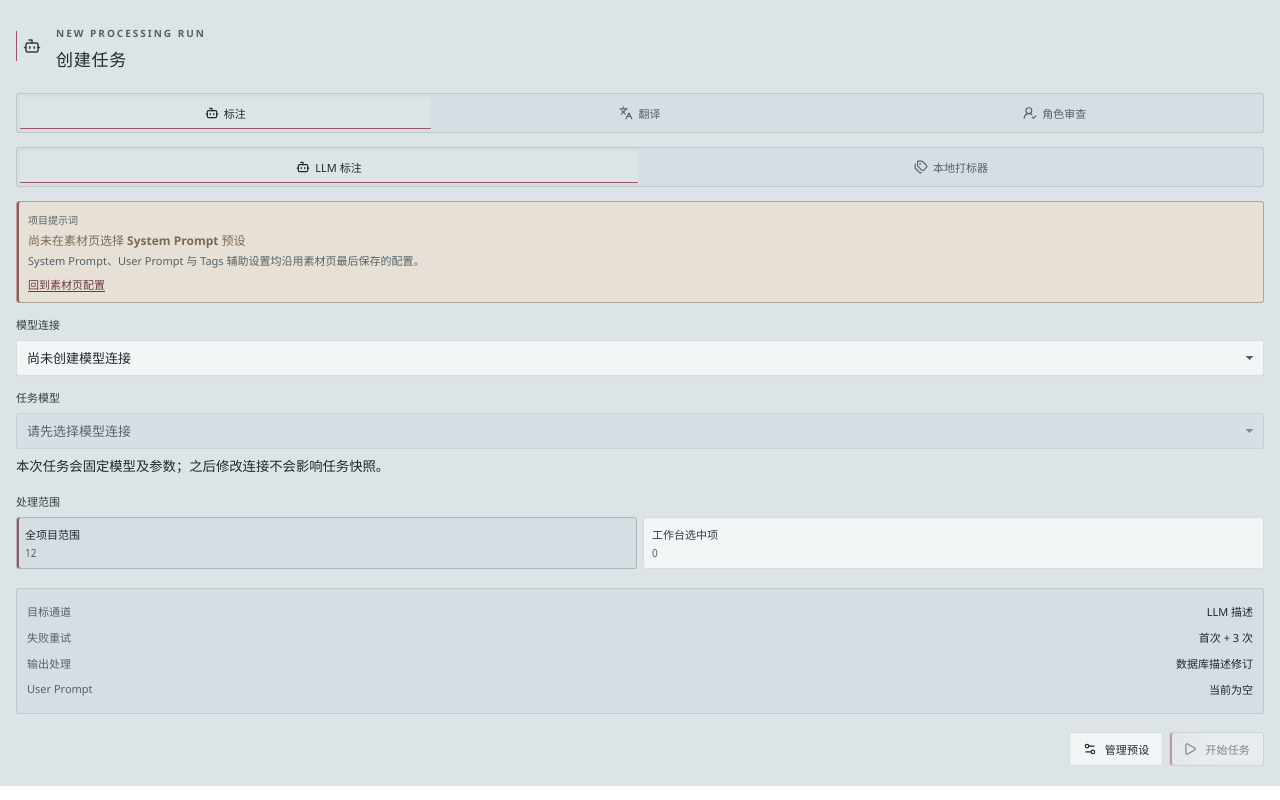
Test: new local tagger job summary › shows effective category thresholds, output categories, device and batch size
Click the button "本地打标器" at (951, 167), box [642,151,1260,183]
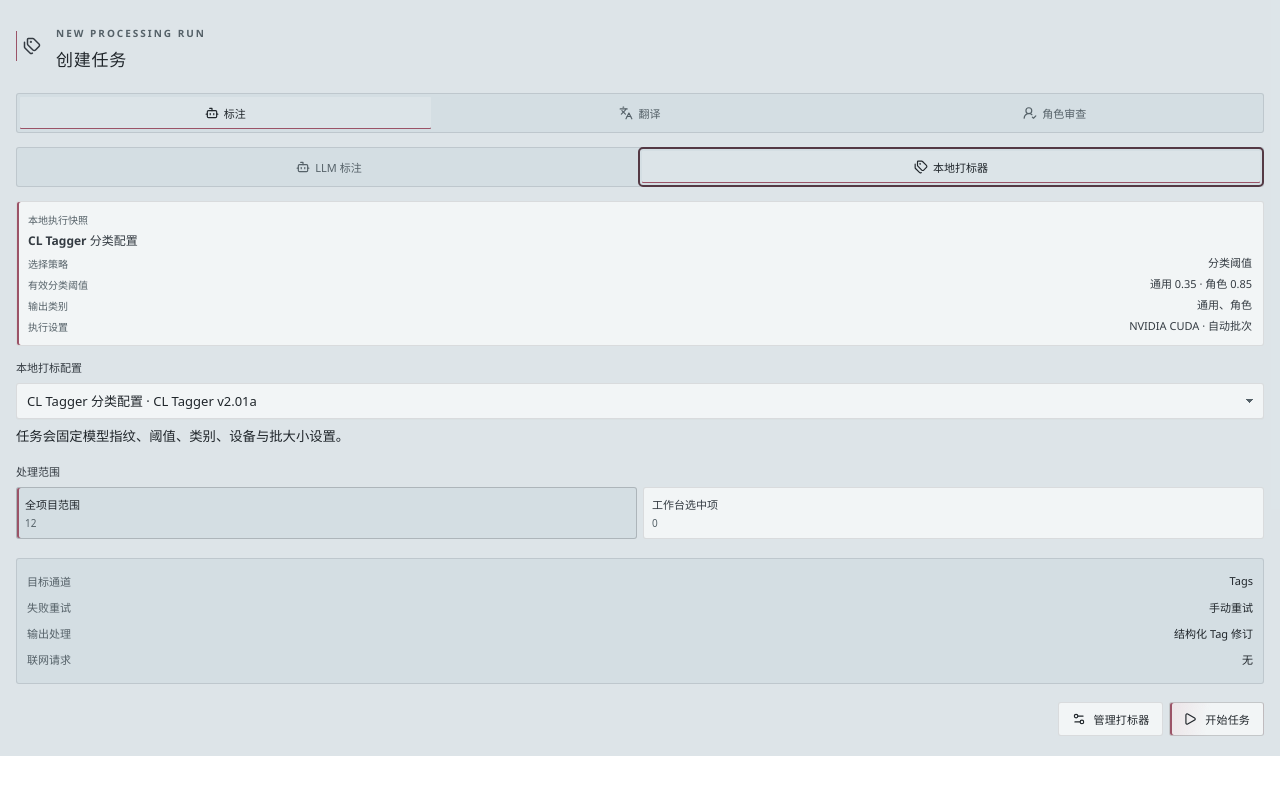
Check: the text "CL Tagger 分类配置" is shown, box [28,232,138,249]
Check: the text "有效分类阈值" is shown, box [28,278,88,292]
Check: the text "通用 0.35 · 角色 0.85" is shown, box [1150,277,1252,292]
